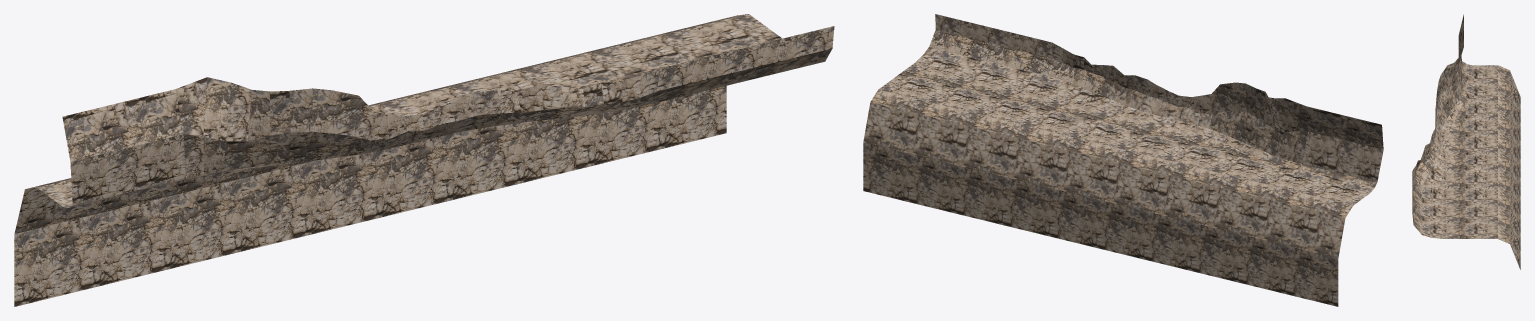
Rendered from intro.fbx.
3 renders of one model, left to right at view 1: azimuth 30°, elevation 25°; view 2: azimuth 150°, elevation 25°; view 3: azimuth 270°, elevation 25°, orthographic. The views are drawn at different scales.
Visible parts, largest first — view 1: intro; view 2: intro; view 3: intro.
Boxes of the visible parts, box(x1,y1,x2,y2) form: intro: box(14, 14, 834, 306); intro: box(863, 14, 1383, 306); intro: box(1412, 14, 1520, 269).
Size of what is drawn, in the model's own units: 81.61 by 25.75 by 21.18.
